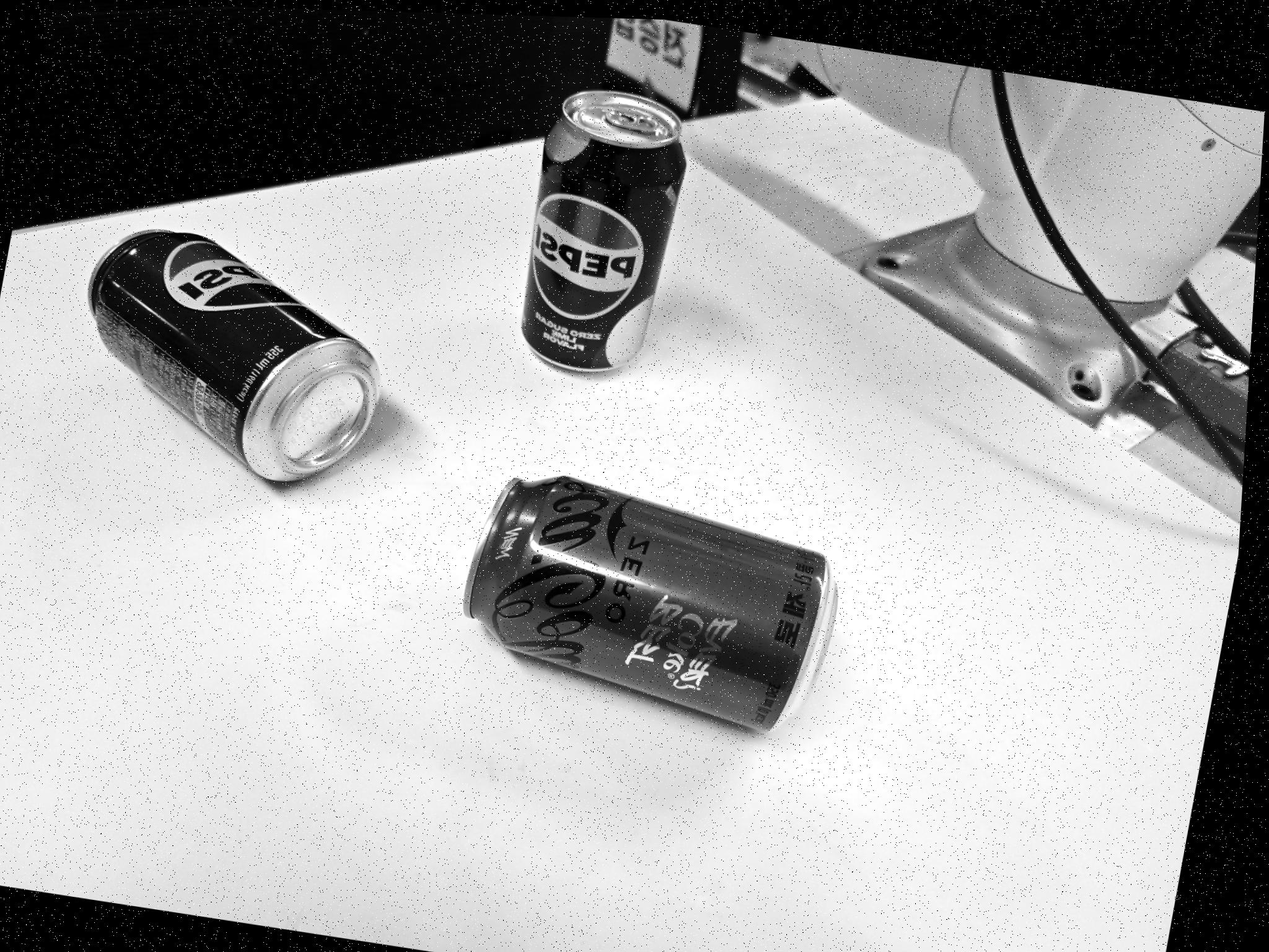can_coke_zero: (464, 476, 837, 730)
can_pepsi: (88, 230, 379, 481)
can_pepsi_zero: (521, 91, 685, 372)
